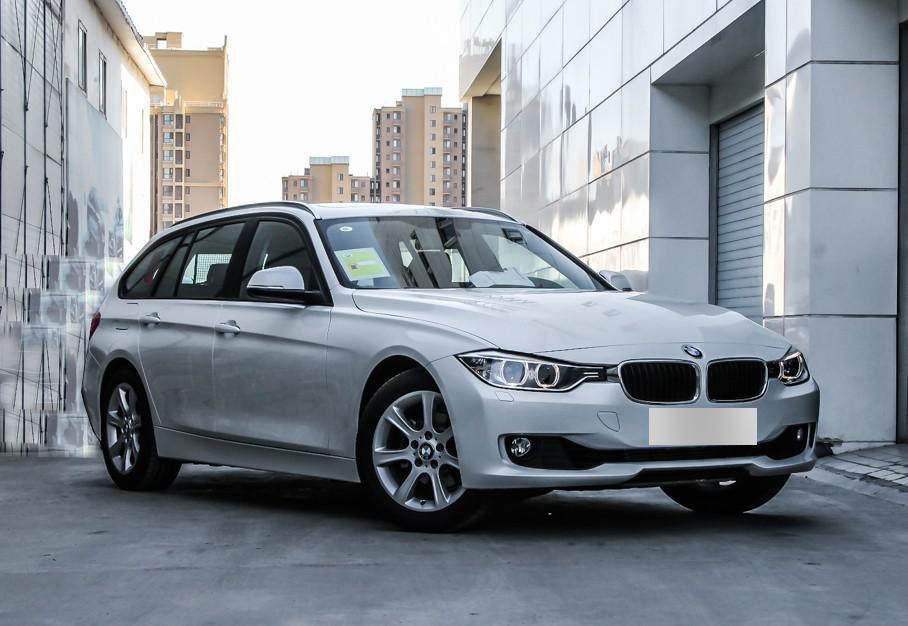Wagon: (81, 200, 819, 532)
